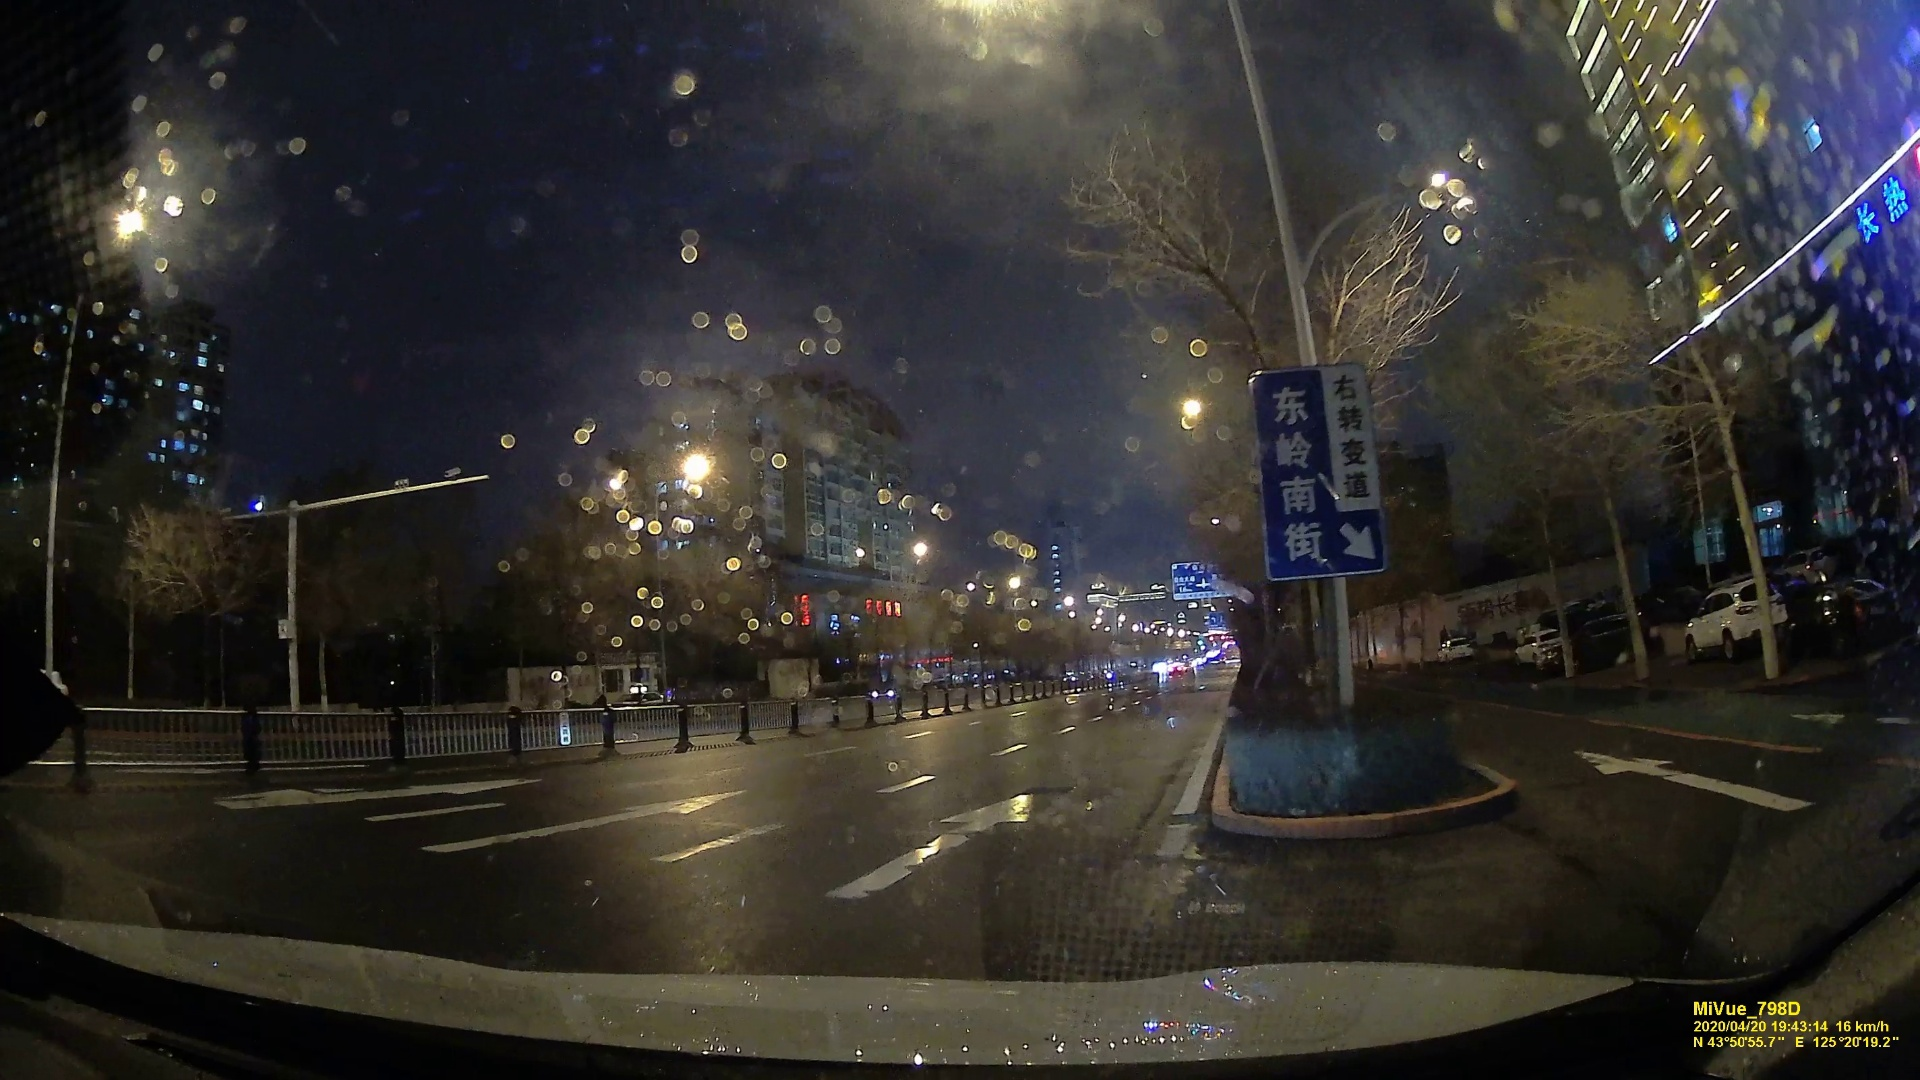traffic_sign: (1249, 360, 1381, 584), (1168, 560, 1258, 597)
vehicle: (1673, 582, 1780, 657), (1439, 637, 1473, 663)
